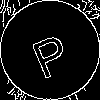P: (25, 25, 74, 80)
